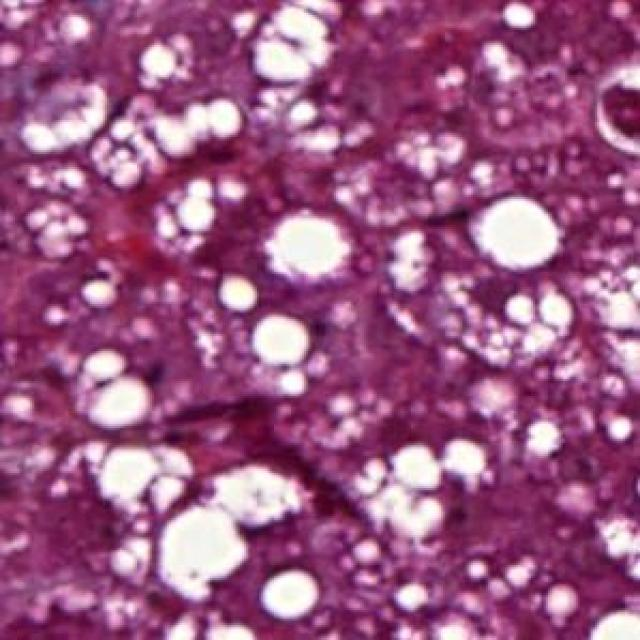ballooning: (62, 432, 323, 608), (388, 188, 582, 388), (62, 342, 161, 434)
